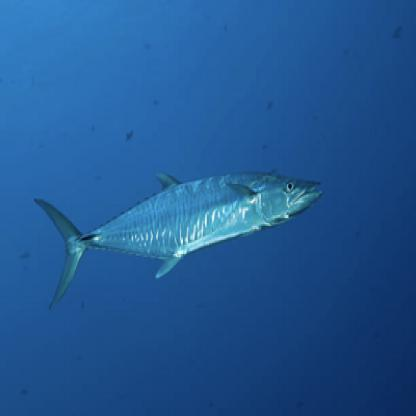tuna: (31, 166, 330, 313)
